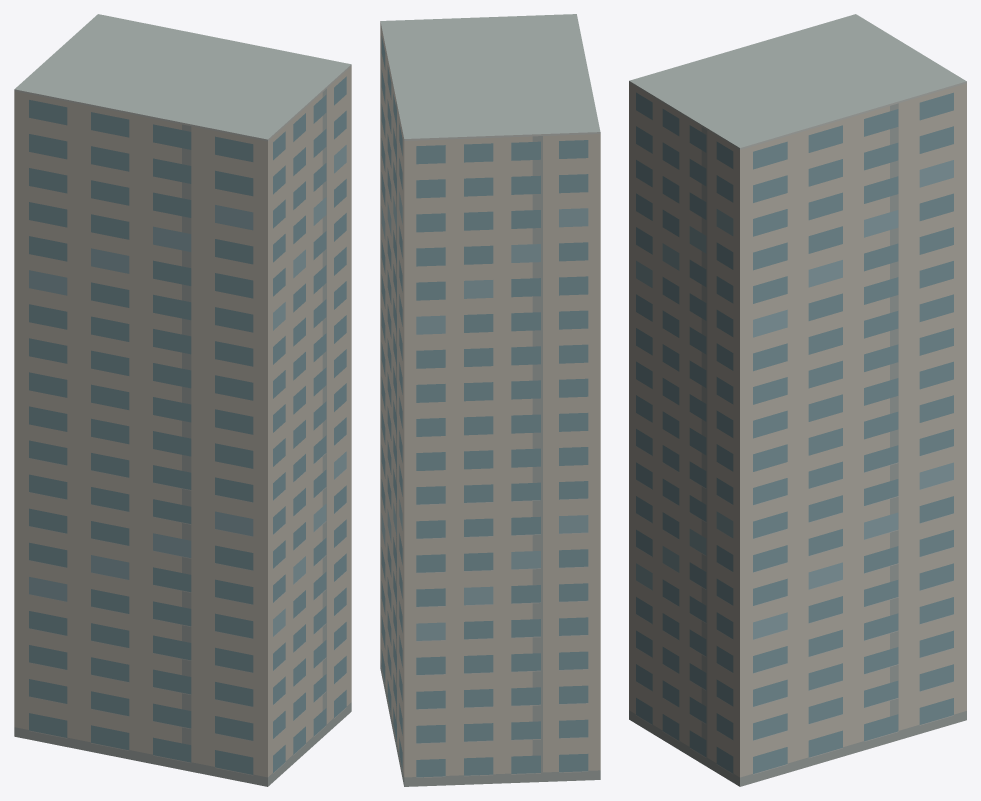
Rendered from residential-d204d77d-d214-429f-acf3-f431d78f619e.glb.
3 renders of one model, left to right at view 1: azimuth 30°, elevation 25°; view 2: azimuth 150°, elevation 25°; view 3: azimuth 270°, elevation 25°, orthographic.
Visible parts, largest first — view 1: residential-d204d77d-d214-429f-acf3-f431d78f619e.tmp; view 2: residential-d204d77d-d214-429f-acf3-f431d78f619e.tmp; view 3: residential-d204d77d-d214-429f-acf3-f431d78f619e.tmp.
Boxes of the visible parts, x1,y1,x2,y2 form: residential-d204d77d-d214-429f-acf3-f431d78f619e.tmp: [14, 14, 351, 786]; residential-d204d77d-d214-429f-acf3-f431d78f619e.tmp: [380, 14, 600, 786]; residential-d204d77d-d214-429f-acf3-f431d78f619e.tmp: [629, 14, 966, 786].
Size of the model in its own units: 37.38 by 83 by 39.78.
